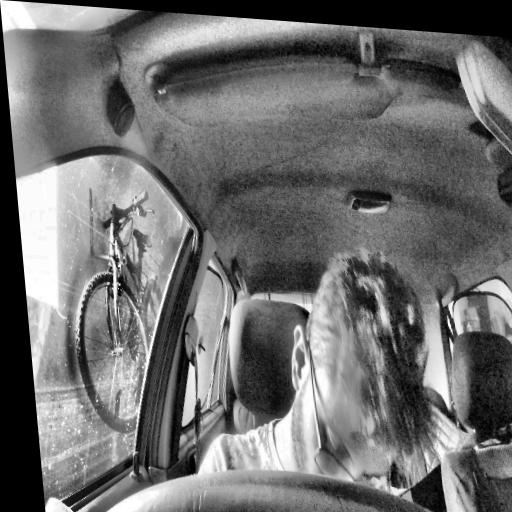drowsy: (276, 243, 440, 512)
